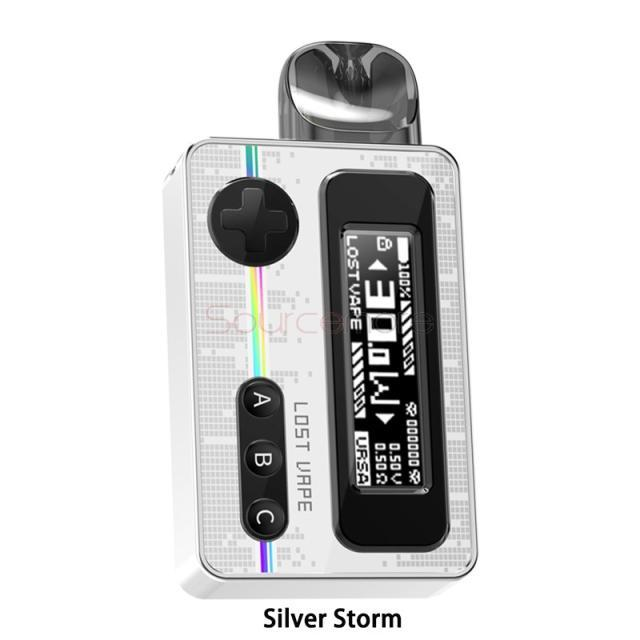Hazard: (162, 39, 480, 598)
